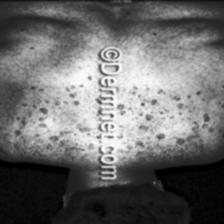Non-Cancerous Skin Condition: (120, 87, 212, 145), (78, 126, 92, 132), (38, 106, 50, 112), (49, 136, 61, 140), (38, 122, 48, 126), (38, 116, 46, 120)
